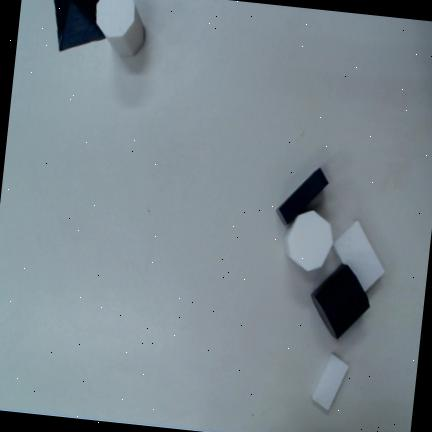Paralelepipedo: (333, 220, 385, 292), (275, 167, 329, 225), (312, 354, 349, 411)
Piramide: (54, 0, 106, 52)
Prisma_hexagonal: (310, 264, 371, 340), (284, 211, 333, 272), (96, 0, 145, 57)
